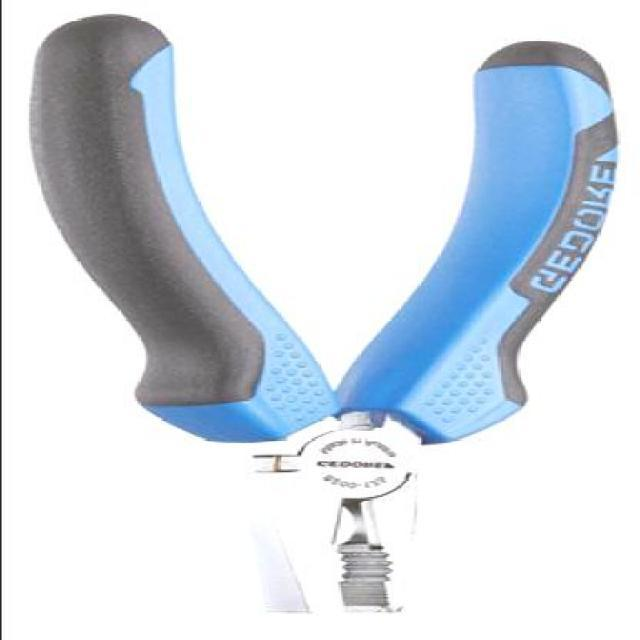pliers: (25, 16, 624, 624)
